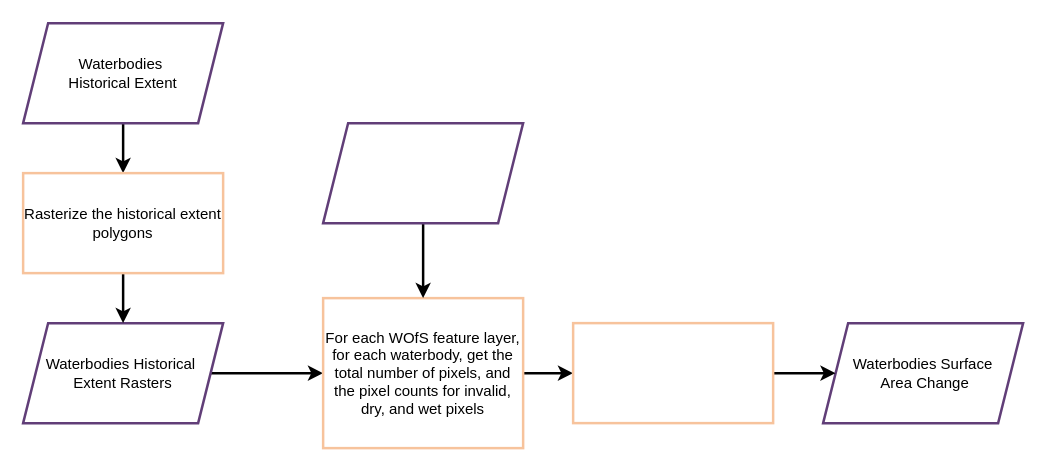
Some shapes in this 1045 by 470 pixel diagram are drawn without their labels. Here are the shapes that lost their labels. From the top down, the centre of each, then its label:
At point (422, 172): "Water Observations from Space Feature Layers 1984 - present".
At point (672, 372): "Get the area of the waterbody that was wet, dry or invalid".
